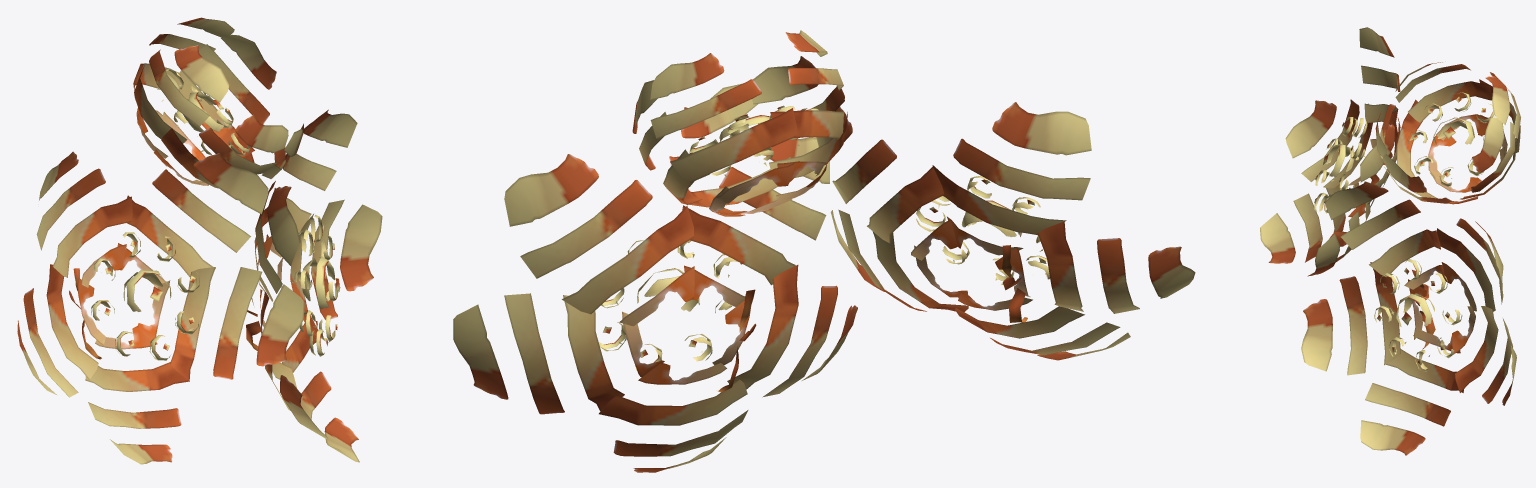
The model's file is pm0026_00_Rig.fbx.
3 views of the same model, side by side, from view 1: azimuth 30°, elevation 25°; view 2: azimuth 150°, elevation 25°; view 3: azimuth 270°, elevation 25° (orthographic). The views are drawn at different scales.
Parts seen in each view (by area): view 1: doodad_spring_2023_flower; view 2: doodad_spring_2023_flower; view 3: doodad_spring_2023_flower.
Part boxes in pixels (box(x1,y1,x2,y2)): doodad_spring_2023_flower: box(17, 17, 382, 464); doodad_spring_2023_flower: box(453, 30, 1195, 472); doodad_spring_2023_flower: box(1260, 27, 1520, 455).
Size of the model in its own units: 0.1357 by 0.1094 by 0.0786.
